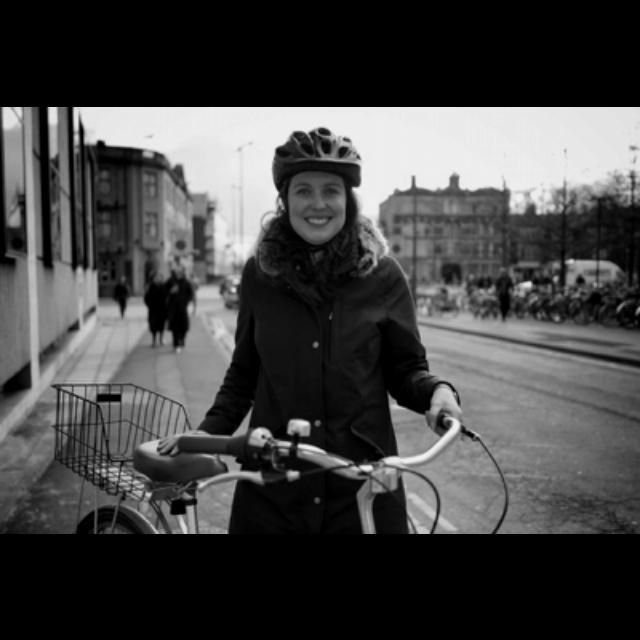With Helmet: (256, 126, 380, 242)
